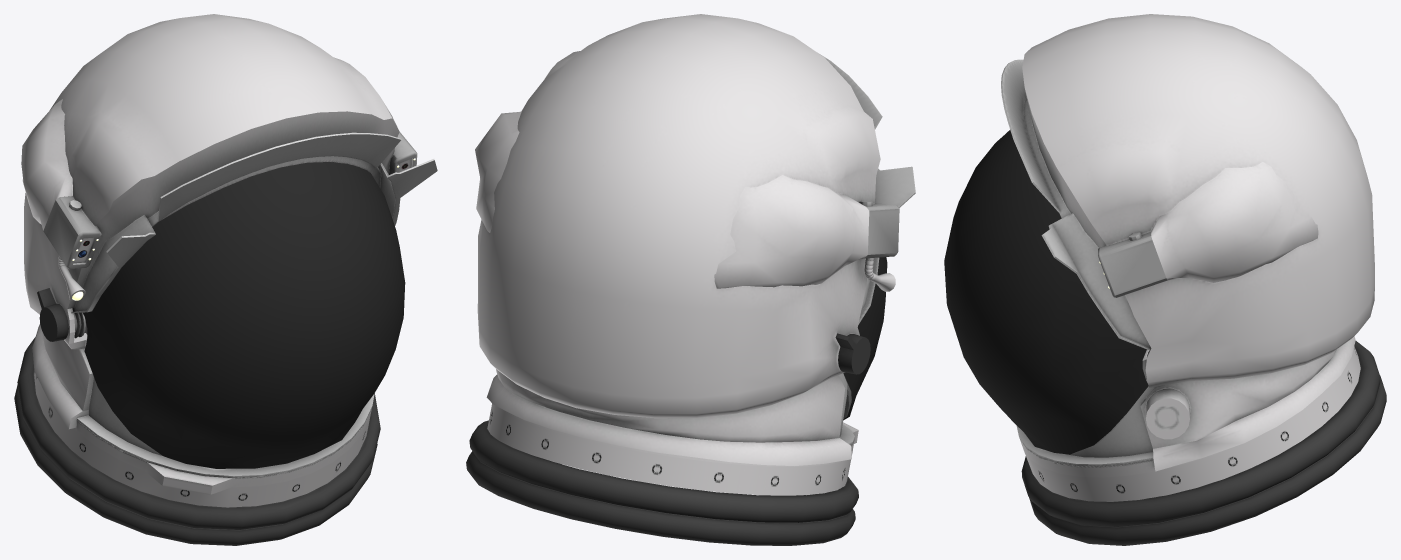
Rendered from space-helmet.glb.
3 views of the same model, side by side, from view 1: azimuth 30°, elevation 25°; view 2: azimuth 150°, elevation 25°; view 3: azimuth 270°, elevation 25° (orthographic). The views are drawn at different scales.
Parts seen in each view (by area): view 1: Helmet-Body, Black-one_Standard_14_0; view 2: Helmet-Body, Black-one_Standard_14_0; view 3: Helmet-Body, Black-one_Standard_14_0.
Part boxes in pixels (left/top/right/bottom): Helmet-Body: left=14, top=14, right=437, bottom=545; Black-one_Standard_14_0: left=83, top=162, right=405, bottom=468; Helmet-Body: left=466, top=14, right=915, bottom=545; Black-one_Standard_14_0: left=843, top=257, right=887, bottom=420; Helmet-Body: left=1001, top=14, right=1386, bottom=545; Black-one_Standard_14_0: left=944, top=130, right=1148, bottom=454.
Bounding box in the file's own units: 3.32 × 4.2 × 3.57.
3 materials, 2 textured.
